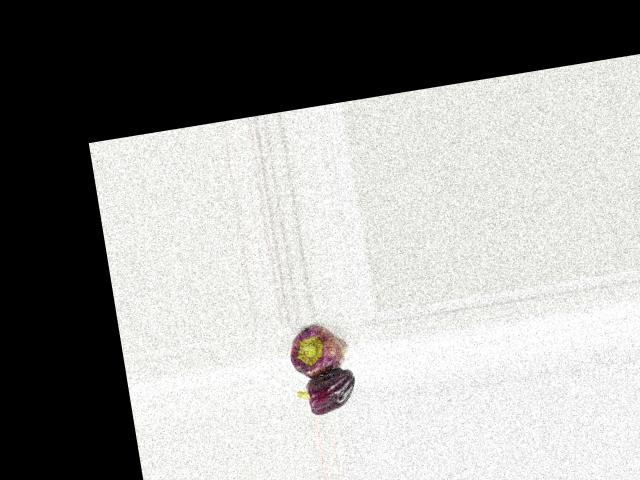bell_pepper: (274, 317, 362, 384)
